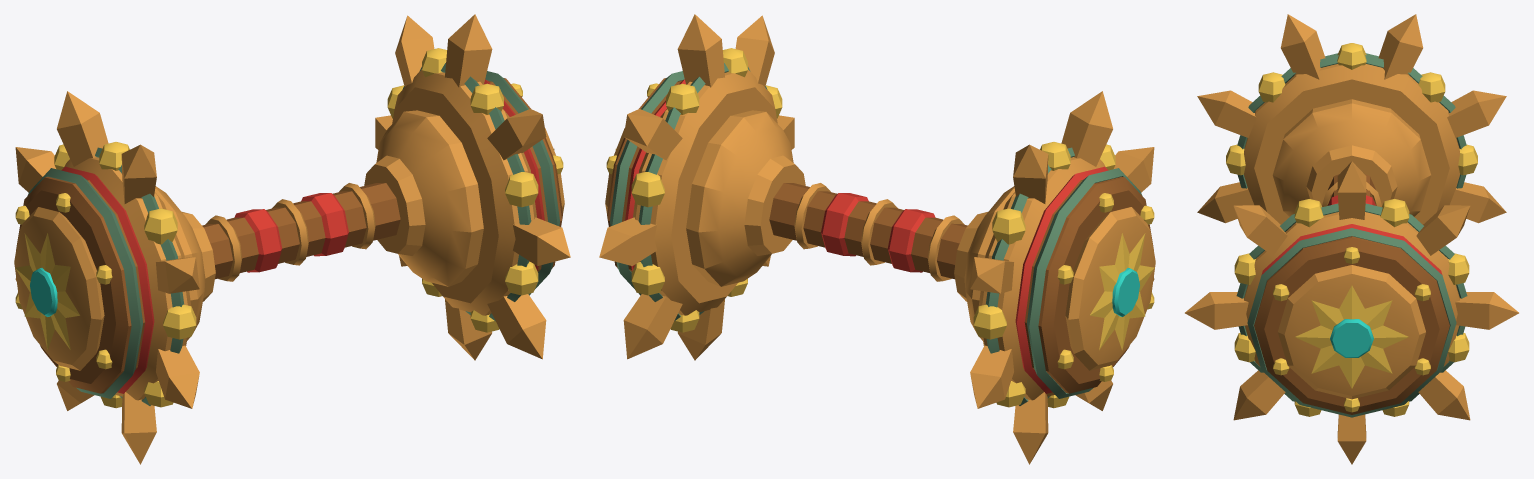
Rendered from db_03_bronze.glb.
3 renders of one model, left to right at view 1: azimuth 30°, elevation 25°; view 2: azimuth 150°, elevation 25°; view 3: azimuth 270°, elevation 25°, orthographic. The views are drawn at different scales.
Visible parts, largest first — view 1: db_03_bronze; view 2: db_03_bronze; view 3: db_03_bronze.
Part boxes in pixels (left/top/right/bottom): db_03_bronze: left=14, top=14, right=570, bottom=464; db_03_bronze: left=599, top=14, right=1155, bottom=464; db_03_bronze: left=1185, top=14, right=1518, bottom=464.
Size of the model in its own units: 2.98 by 1.99 by 1.99.
